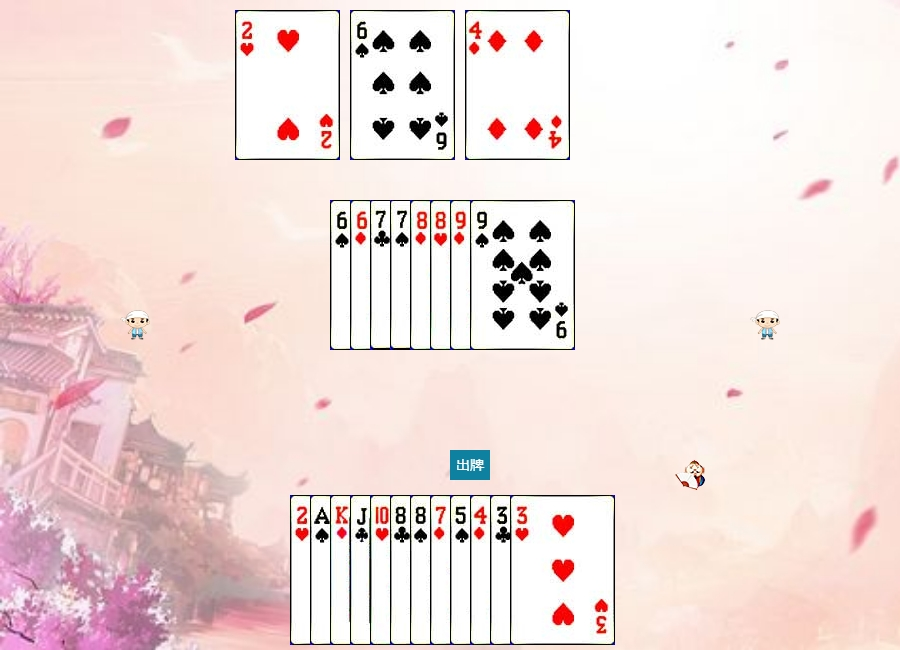10~3: (370, 495, 475, 645)
11~2: (350, 495, 455, 645)
13~1: (330, 495, 435, 645)
14~4: (310, 495, 415, 645)
15~3: (235, 10, 340, 160), (290, 495, 395, 645)
3~2: (490, 495, 595, 645)
3~3: (510, 495, 615, 645)
4~1: (465, 10, 570, 160), (470, 495, 575, 645)
5~4: (450, 495, 555, 645)
6~1: (350, 200, 455, 350)
6~4: (350, 10, 455, 160), (330, 200, 435, 350)
7~1: (430, 495, 535, 645)
7~2: (370, 200, 475, 350)
7~4: (390, 200, 495, 350)
8~1: (410, 200, 515, 350)
8~2: (390, 495, 495, 645)
8~3: (430, 200, 535, 350)
8~4: (410, 495, 515, 645)
9~1: (450, 200, 555, 350)
9~4: (470, 200, 575, 350)
